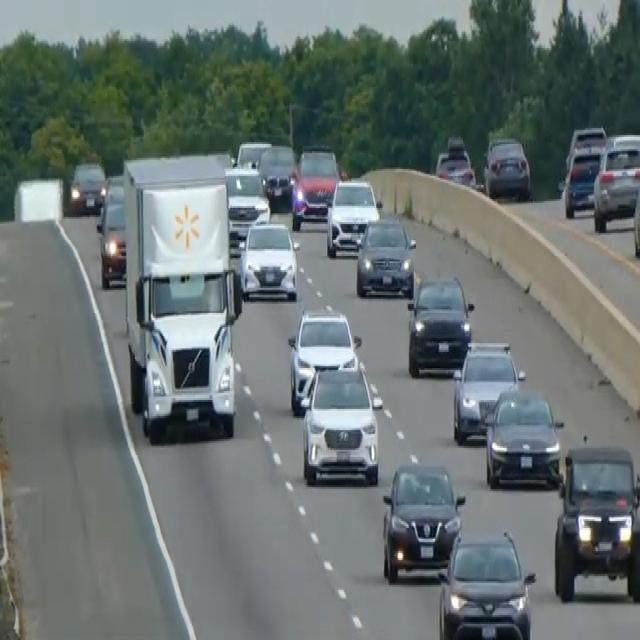car: (553, 439, 639, 603), (437, 528, 536, 638), (381, 459, 465, 583), (300, 363, 381, 485), (484, 386, 564, 489), (287, 306, 360, 414), (451, 338, 525, 442), (406, 272, 474, 377), (355, 213, 416, 299), (238, 218, 299, 300), (592, 132, 639, 231), (325, 176, 381, 256), (290, 143, 340, 230), (224, 162, 270, 242), (95, 180, 127, 288), (482, 135, 531, 201), (562, 144, 603, 217), (257, 142, 296, 208), (69, 158, 106, 214), (565, 123, 607, 167), (435, 146, 475, 187), (235, 137, 271, 171), (632, 163, 639, 260)
lorry: (121, 151, 242, 443)
